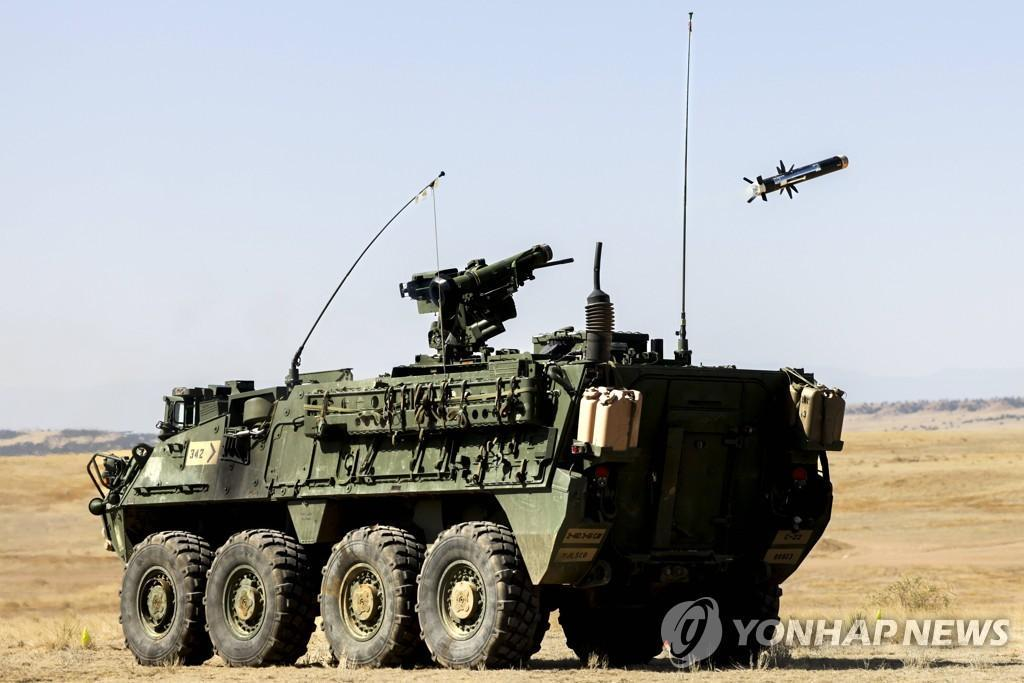MIL_IFV: (86, 239, 846, 671)
